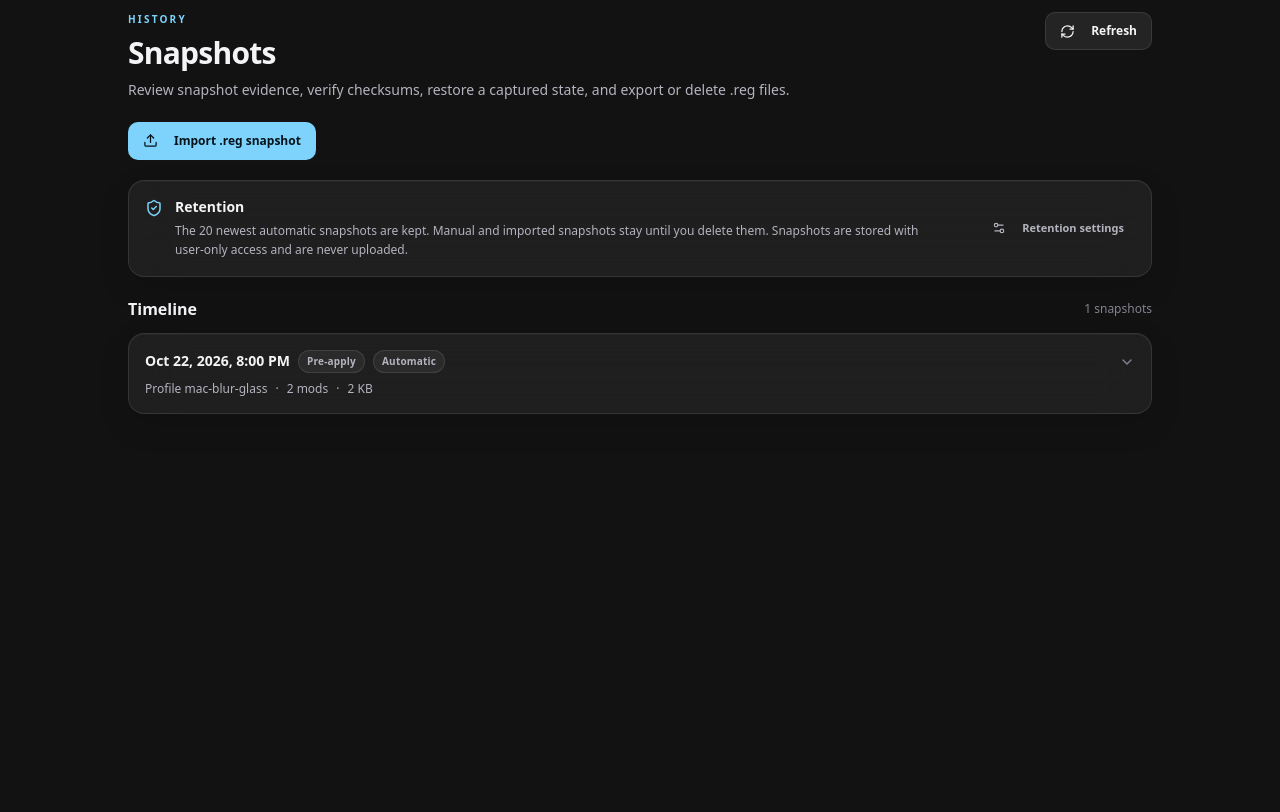
Test: Snapshots › verifies a snapshot checksum when its row expands
Click the button with aria-label "Show details for snapshot from Oct 22, 2026, 8:00 PM" at (218, 361), box [129,334,1151,413]
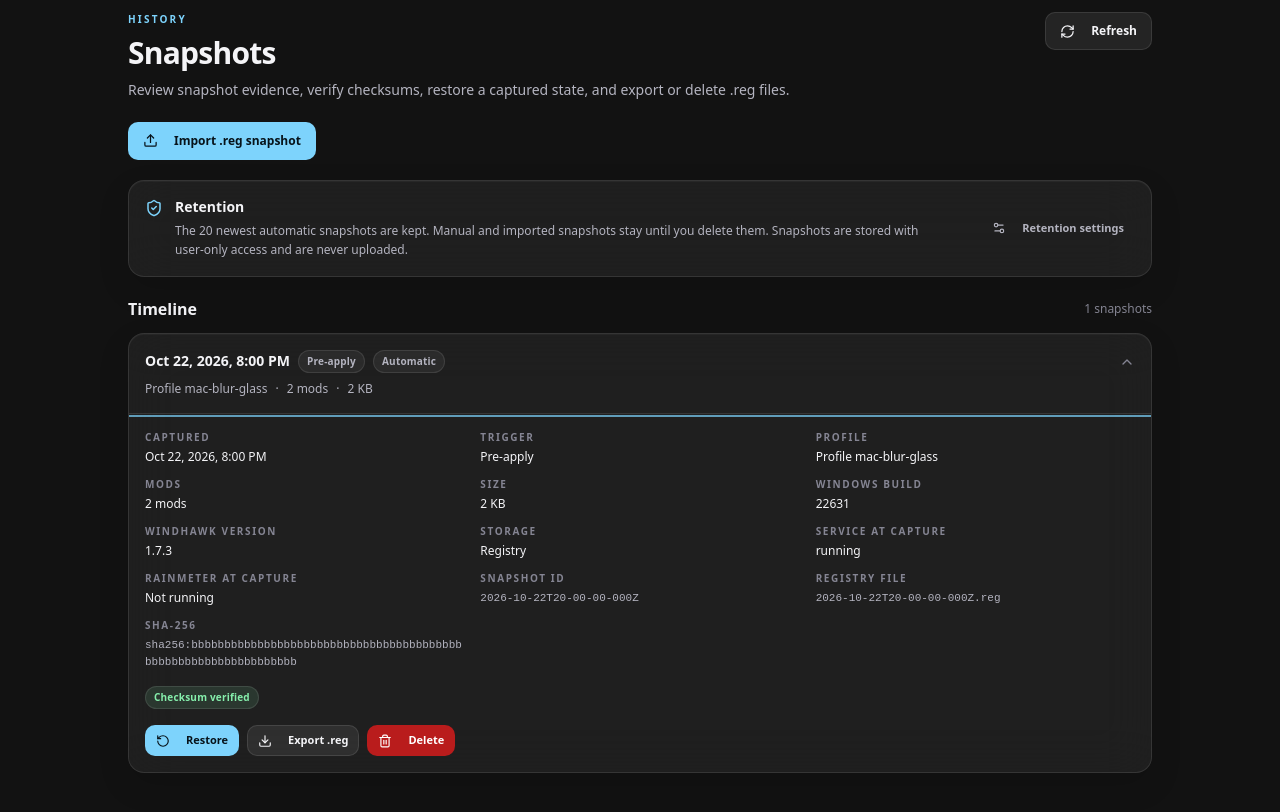
Check: the text "Checksum verified" is shown, box [145,686,259,709]
Check: the text "sha256:bbbbbbbbbbbbbbbbbbbbbbbbbbbbbbbbbbbbbbbbbbbbbbbbbbbbbbbbbbbbbbbb" is shown, box [145,637,464,670]
Check: the text "1.7.3" is shown, box [145,542,172,559]
